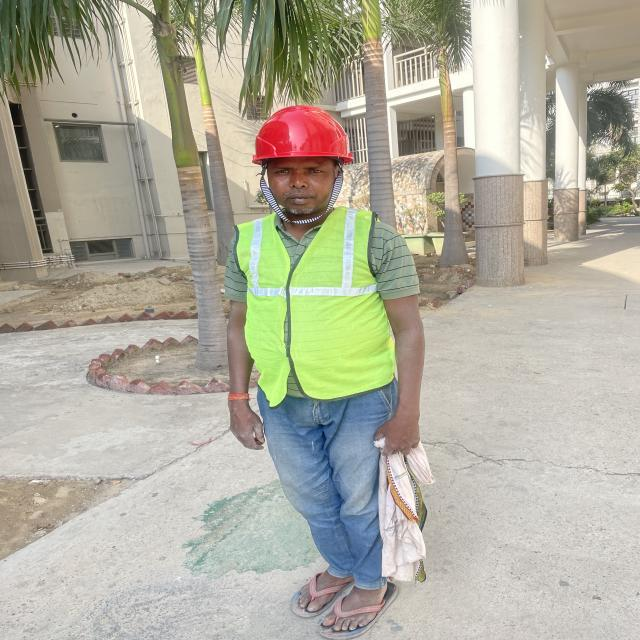safe: (227, 106, 424, 638)
